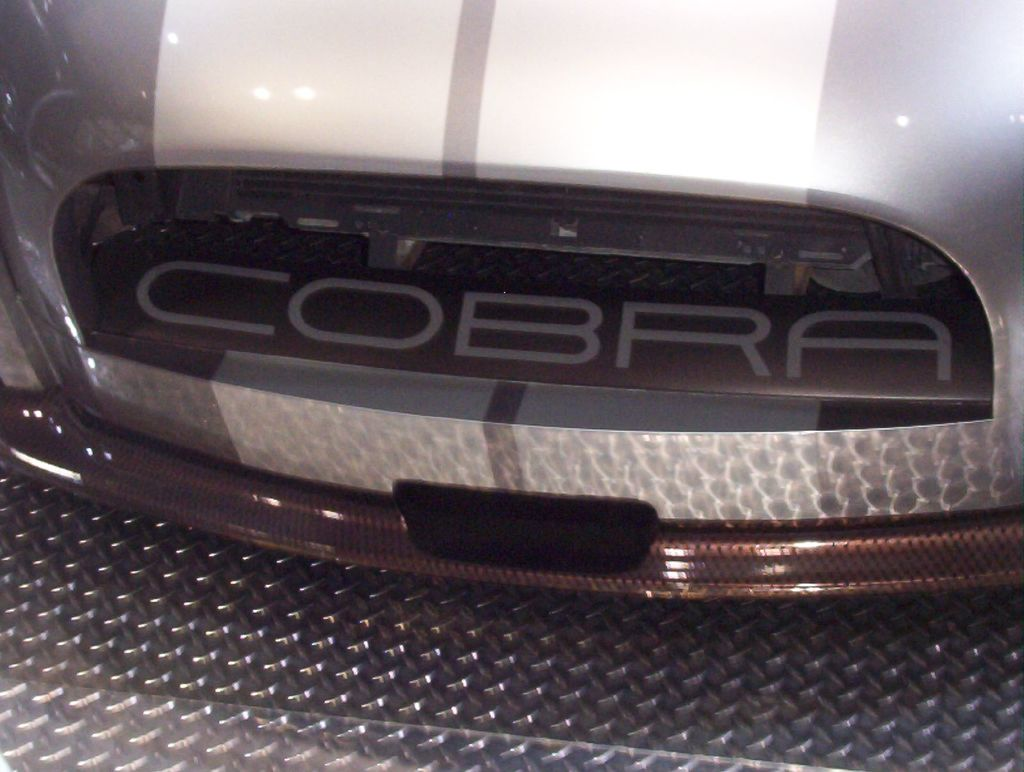Car: (0, 0, 1023, 594)
